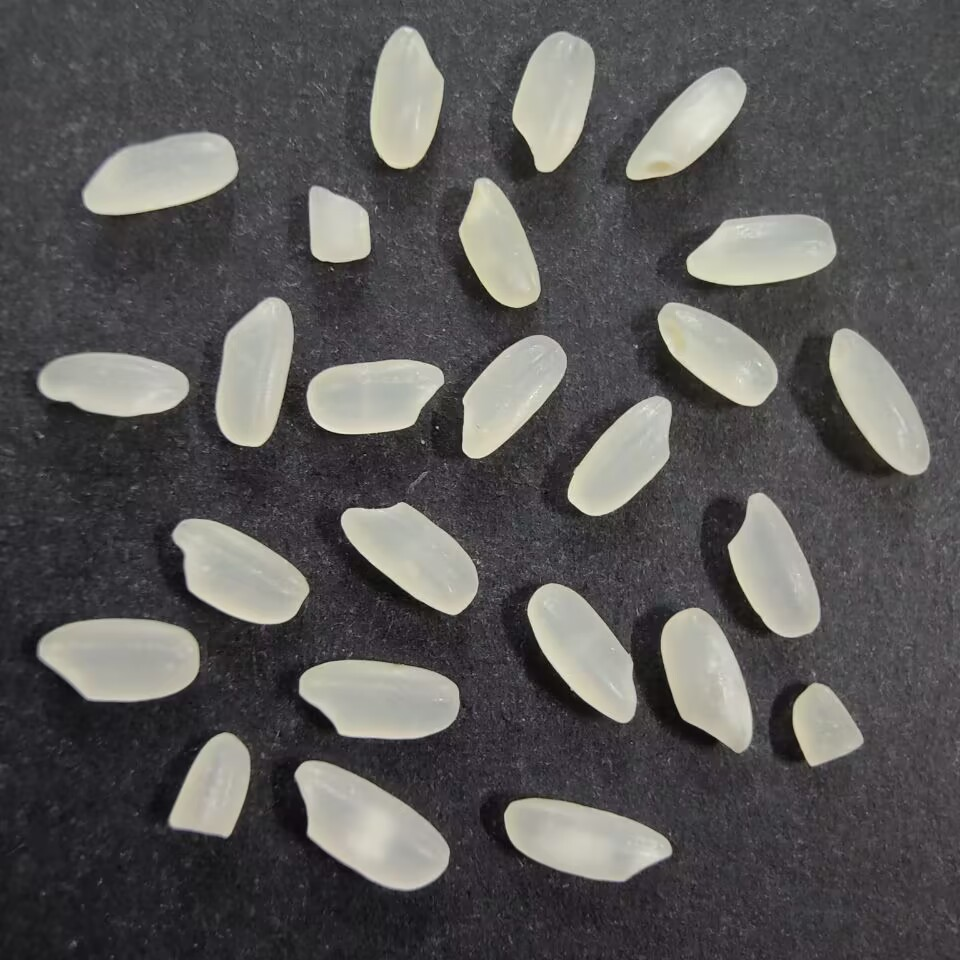broken: (164, 730, 255, 842), (787, 678, 868, 772), (302, 183, 378, 265)
rice: (289, 757, 455, 895), (523, 580, 641, 727), (824, 320, 931, 482), (339, 502, 487, 618), (620, 61, 750, 186), (502, 795, 678, 887), (168, 517, 314, 626), (32, 616, 202, 708), (563, 391, 678, 525), (721, 491, 823, 639), (658, 605, 757, 756), (80, 128, 242, 220), (293, 653, 462, 741), (460, 329, 567, 463), (656, 297, 782, 410), (507, 25, 600, 177), (455, 175, 547, 312), (212, 295, 293, 448), (367, 19, 448, 170), (683, 211, 839, 288), (33, 348, 193, 421), (305, 356, 446, 434)
